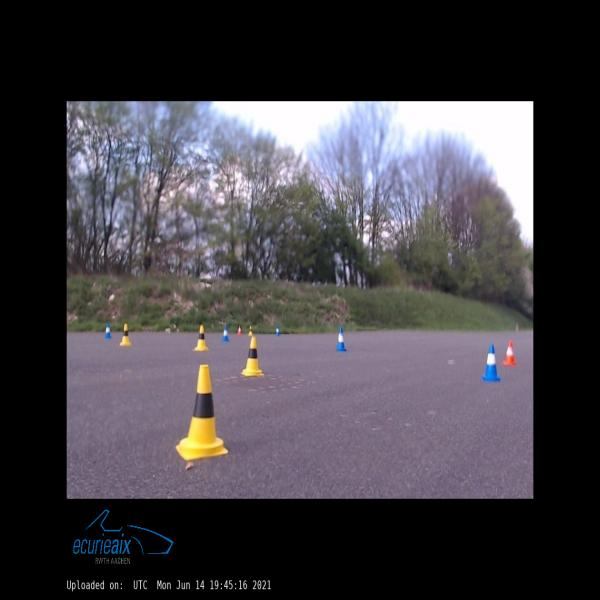blue_cone: (482, 344, 500, 382), (336, 327, 346, 351), (104, 323, 111, 338), (222, 326, 229, 340), (276, 327, 280, 336)
orange_cone: (503, 340, 517, 366), (237, 325, 242, 334)
yellow_cone: (176, 365, 229, 461), (241, 337, 264, 376), (193, 325, 208, 351), (120, 323, 130, 346), (248, 326, 253, 335)
